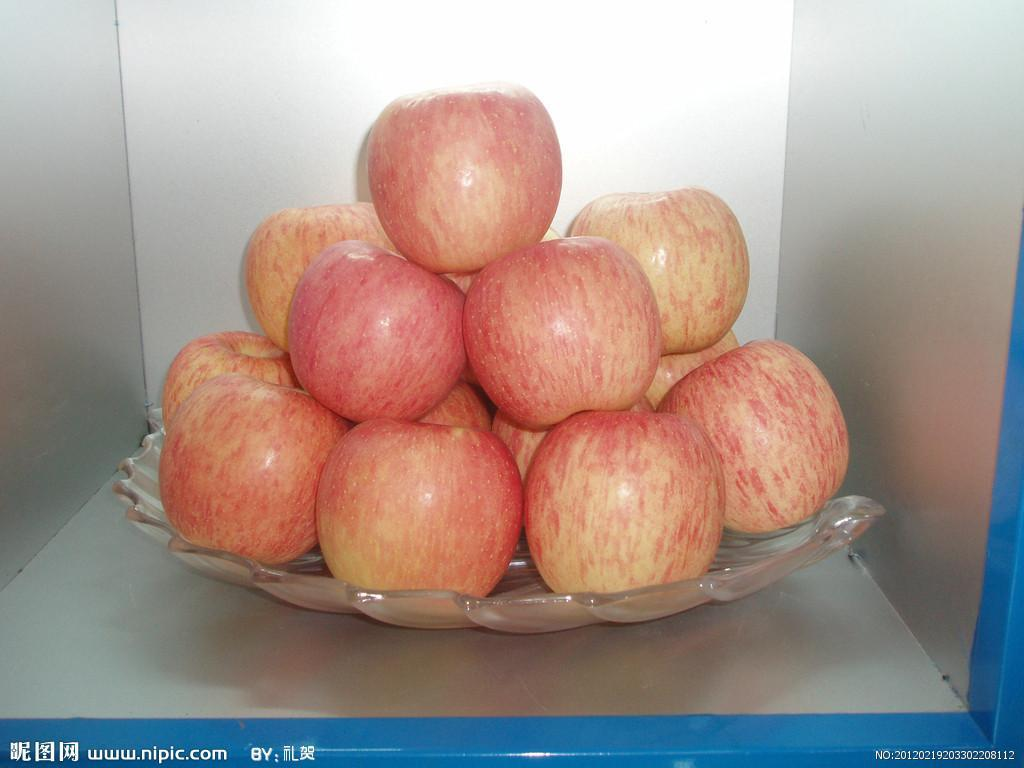apple: (360, 81, 562, 276), (314, 413, 522, 599), (462, 233, 663, 425), (656, 339, 850, 537), (523, 411, 728, 596), (287, 236, 474, 424), (159, 371, 346, 559), (565, 183, 750, 351)
